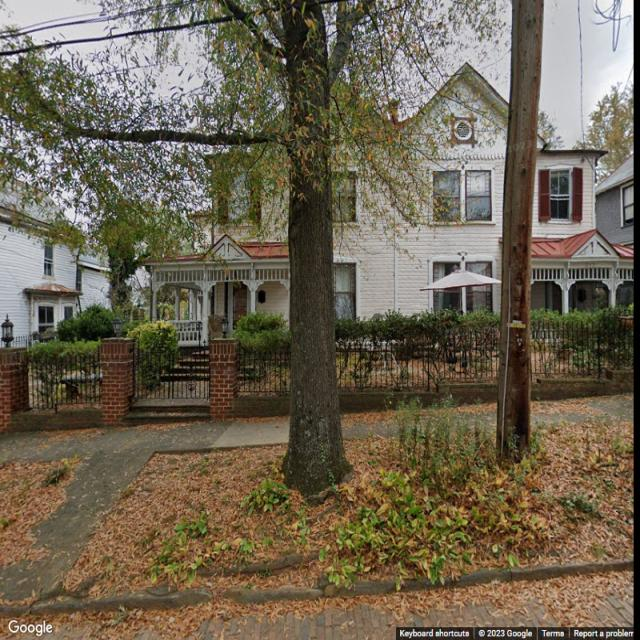House: (147, 61, 634, 352), (0, 184, 142, 345), (598, 154, 640, 243)
